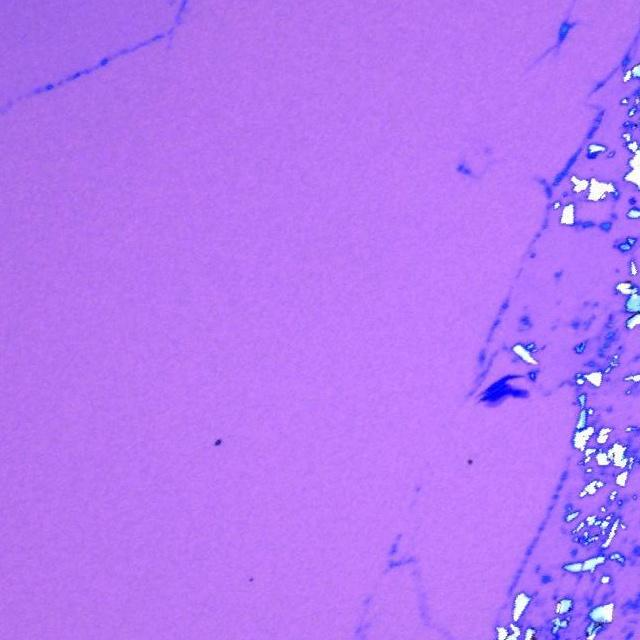monolayer-eWW4: (486, 393, 510, 408)
